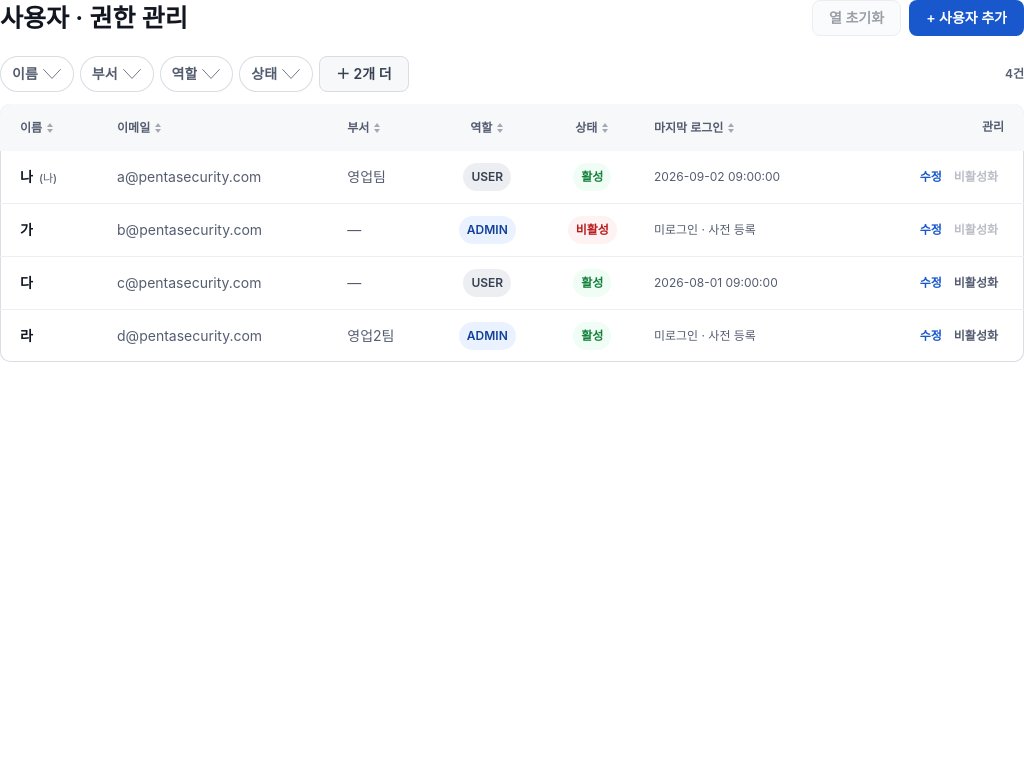
Scenario: UsersTable 열 필터 (파일럿) › 고정 필드 이름·부서·역할·상태 + "＋ 2개 더"(이메일·마지막 로그인), 상태 = 비활성 2클릭
Check: the text "4건" is shown, box [1005,65,1023,83]
Click the button "상태" in the row of "4건" at (276, 74), box [239,56,313,92]
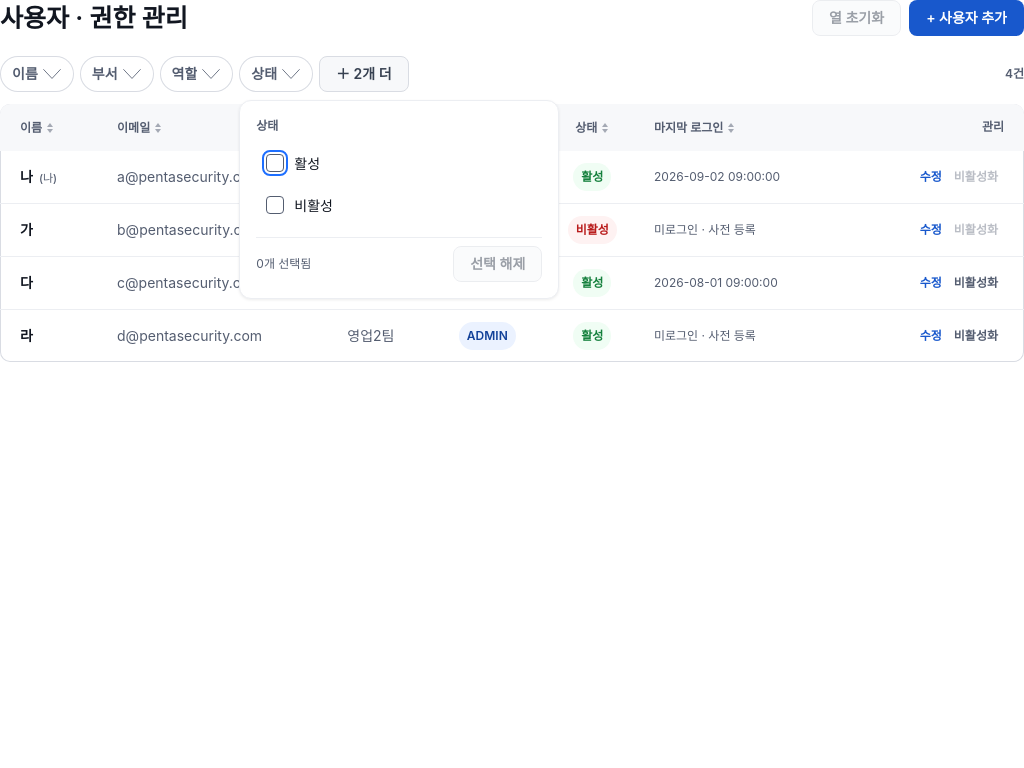
Click the checkbox labelled "비활성" at (275, 205), box [266,196,284,214]
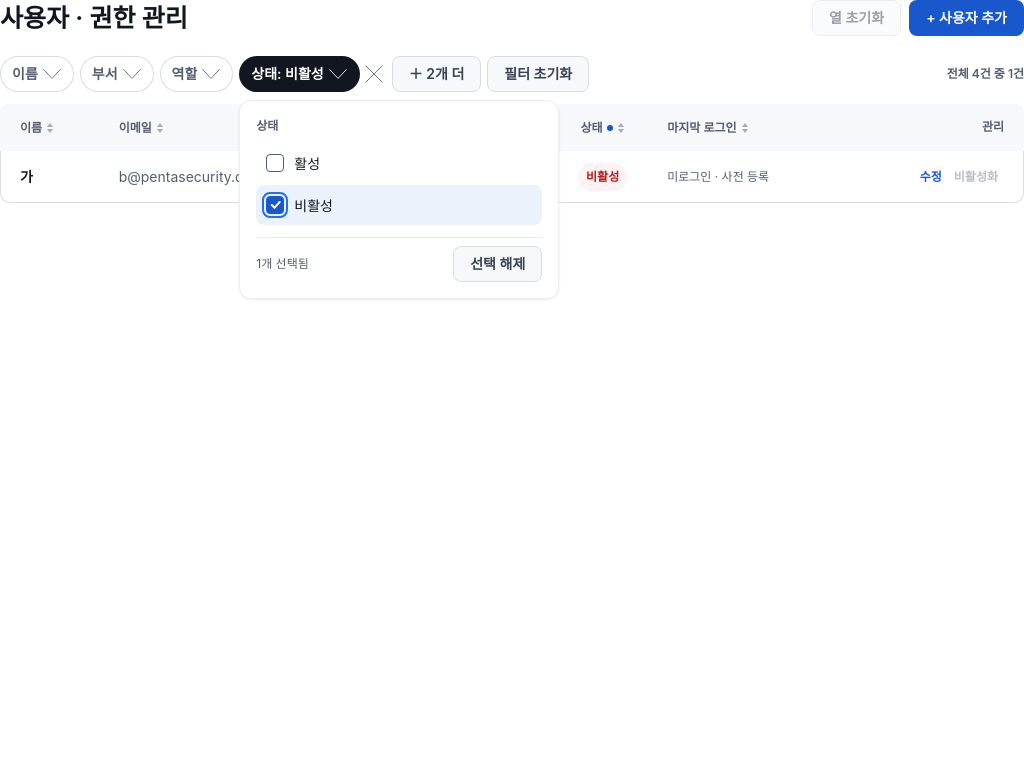
Press Escape
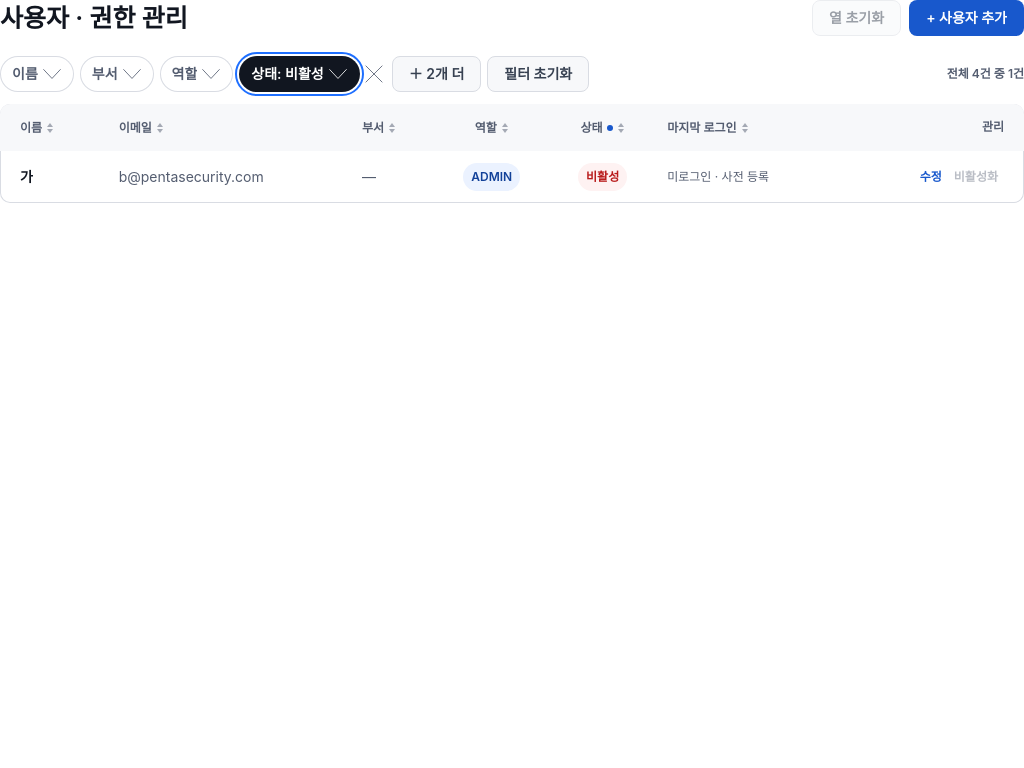
Click the button "＋ 2개 더" at (436, 74), box [392,56,481,92]
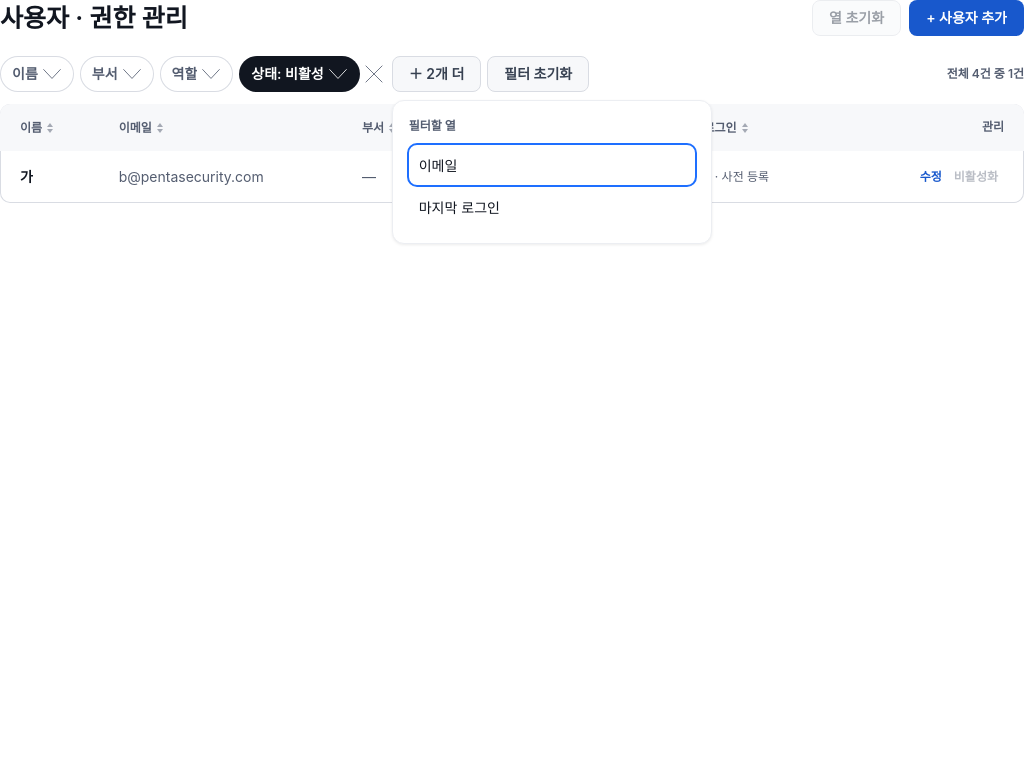
Check: the buttons read "이메일", "마지막 로그인", in this order, box [409,145,695,185]; [409,187,695,227]
